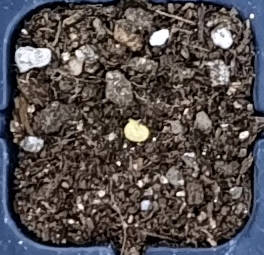pepper seed: (48, 47, 198, 190)
